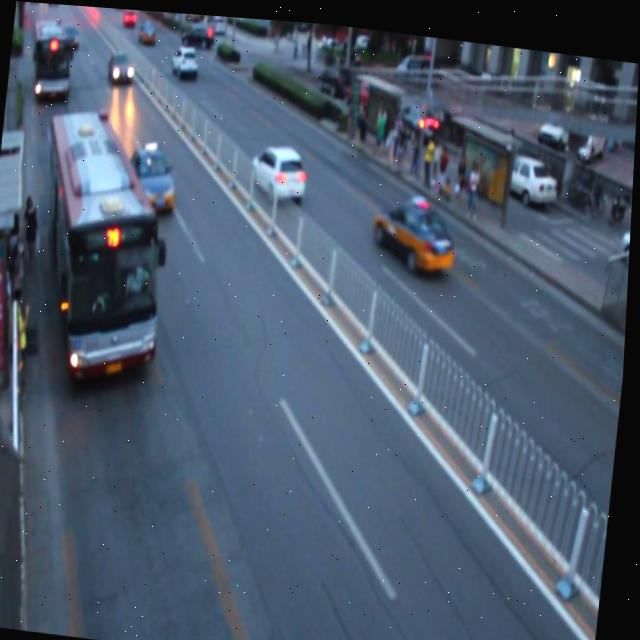car: (371, 188, 460, 267), (125, 138, 182, 213), (250, 137, 309, 204), (108, 47, 138, 88), (172, 41, 201, 79)
van: (27, 109, 178, 383), (24, 11, 77, 103)
